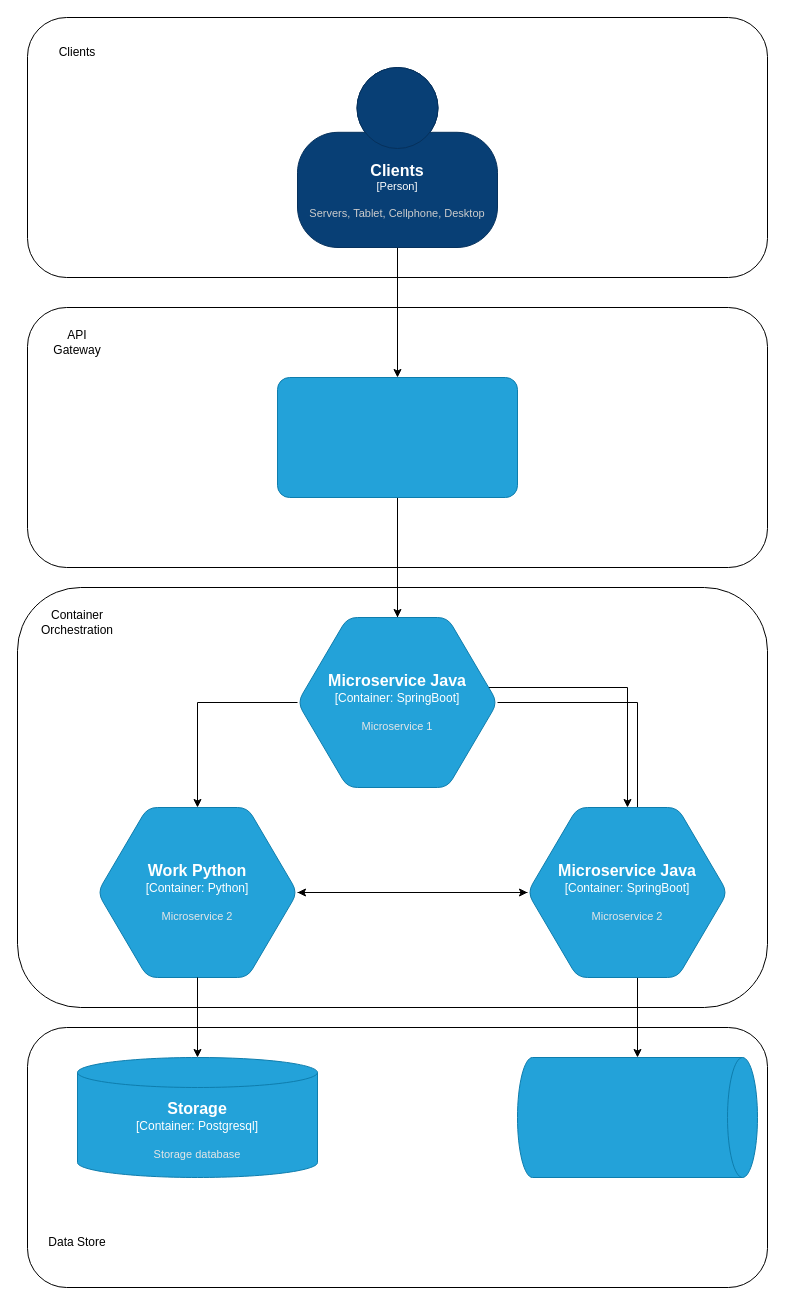
Some shapes in this 785 by 1305 pixel diagram are drawn without their labels. The box of each missing label's shape, as (x1, y1, x2, y2) in pixels:
API Gateway [Container: SpringBoot, ElasticSearch, etc.] API comunication: (276, 376, 518, 498)
Menssenger [Container: Apache Kafka] Pool data: (516, 1056, 758, 1178)
